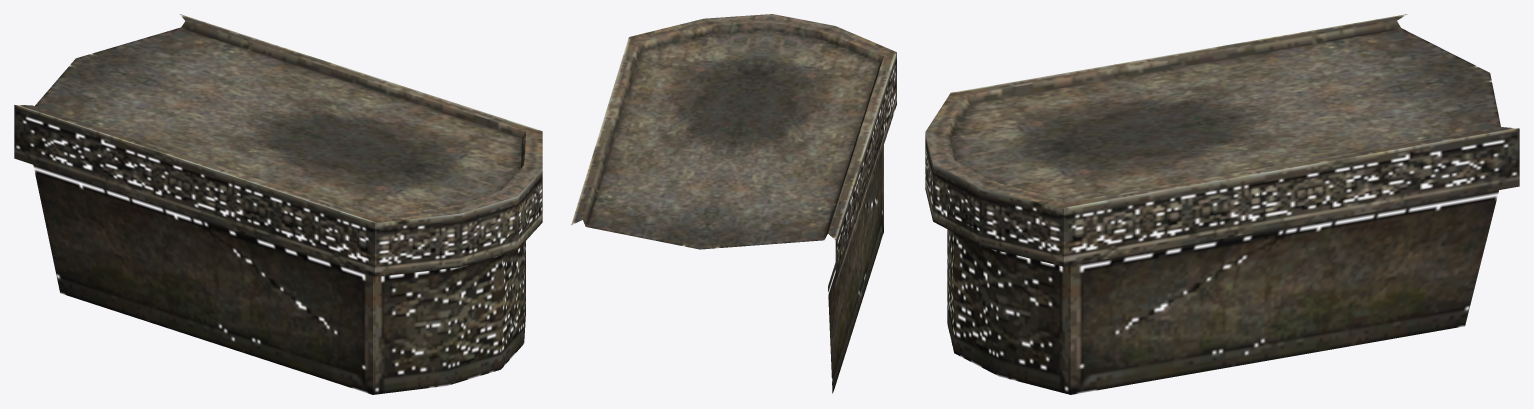
File: miniboss_02-1.glb
3 renders of one model, left to right at view 1: azimuth 30°, elevation 25°; view 2: azimuth 150°, elevation 25°; view 3: azimuth 270°, elevation 25°, orthographic. The views are drawn at different scales.
Parts seen in each view (by area): view 1: miniboss_02-1; view 2: miniboss_02-1; view 3: miniboss_02-1.
Part boxes in pixels (left/top/right/bottom): miniboss_02-1: left=14, top=14, right=542, bottom=394; miniboss_02-1: left=571, top=14, right=896, bottom=393; miniboss_02-1: left=925, top=14, right=1519, bottom=394.
Bounding box in the file's own units: 13.61 × 6.3 × 17.54.
Materials: 1 (1 with a texture image).
